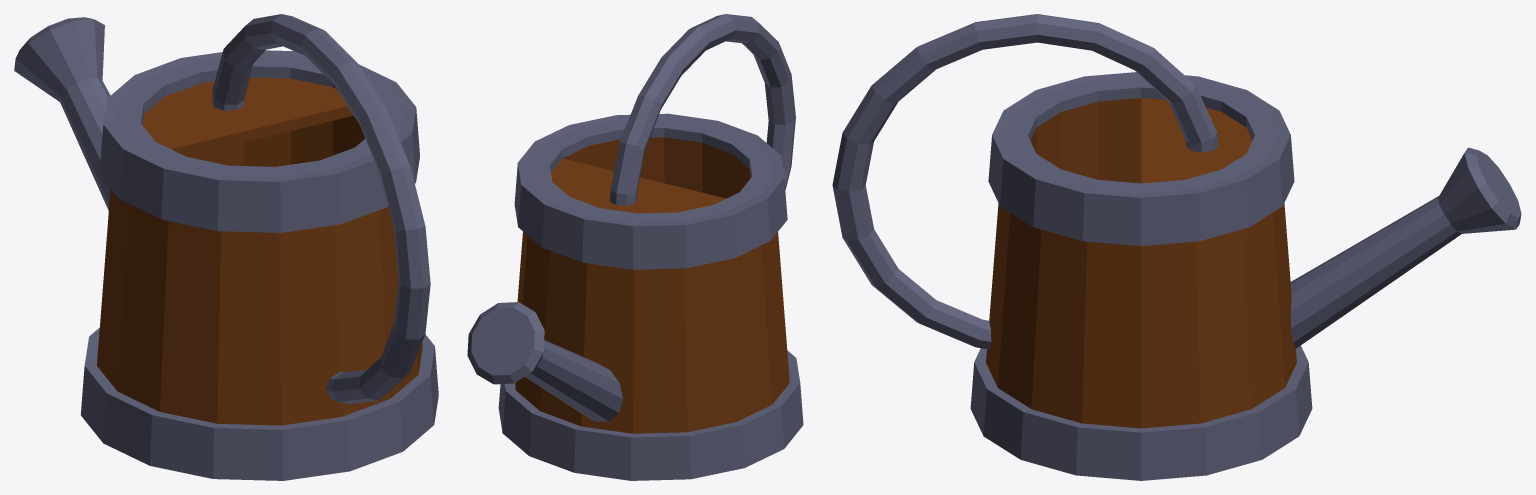
File: Watering_Can_2.FBX
The picture shows the model from 3 angles, left to right: view 1: azimuth 30°, elevation 25°; view 2: azimuth 150°, elevation 25°; view 3: azimuth 270°, elevation 25°; orthographic projection. The views are drawn at different scales.
Visible parts, largest first — view 1: Cylinder001, Torus001, Cylinder002; view 2: Cylinder001, Torus001, Cylinder002; view 3: Cylinder001, Torus001, Cylinder002.
Boxes of the visible parts, x1,y1,x2,y2 form: Cylinder001: (80,50,438,480); Torus001: (212,14,430,403); Cylinder002: (14,17,110,210); Cylinder001: (498,113,803,480); Torus001: (610,14,795,205); Cylinder002: (467,302,622,421); Cylinder001: (970,72,1312,480); Torus001: (832,14,1218,349); Cylinder002: (1290,147,1521,348).
Size of the model in its own units: 16.49 by 21.04 by 33.25.
